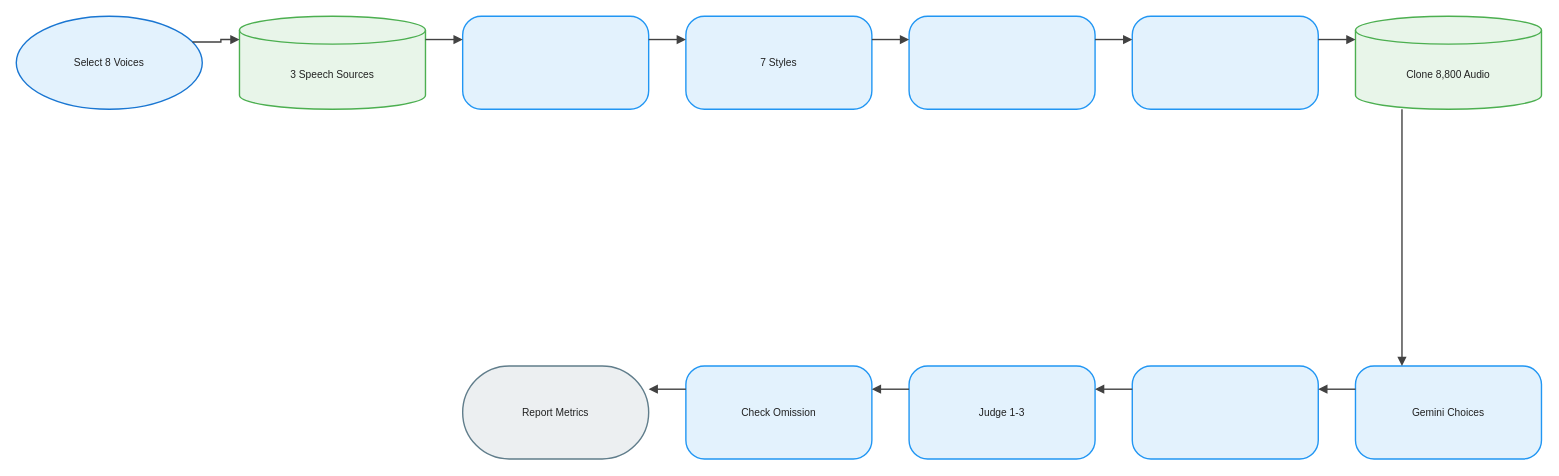
Image size: 1559x476. Some labels were removed from this diagram. Here are the shapes that lost their labels. From the top down, the centre of each, then its label:
the point at 555,62: 5 Emotions
the point at 1001,62: 10 Para. Labels
the point at 1225,62: Pair Speakers
the point at 1225,412: Average Accuracy
